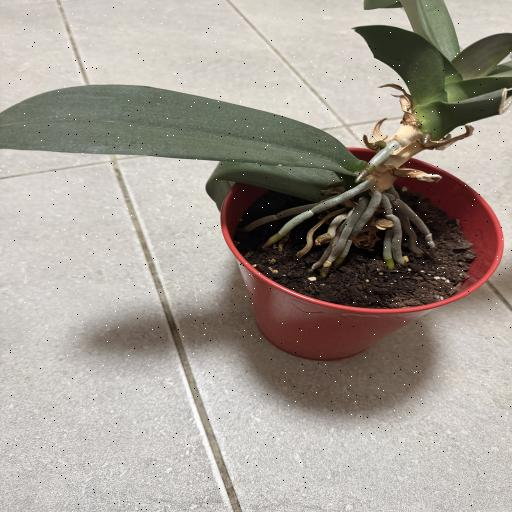Plant Pot: (219, 149, 503, 362)
